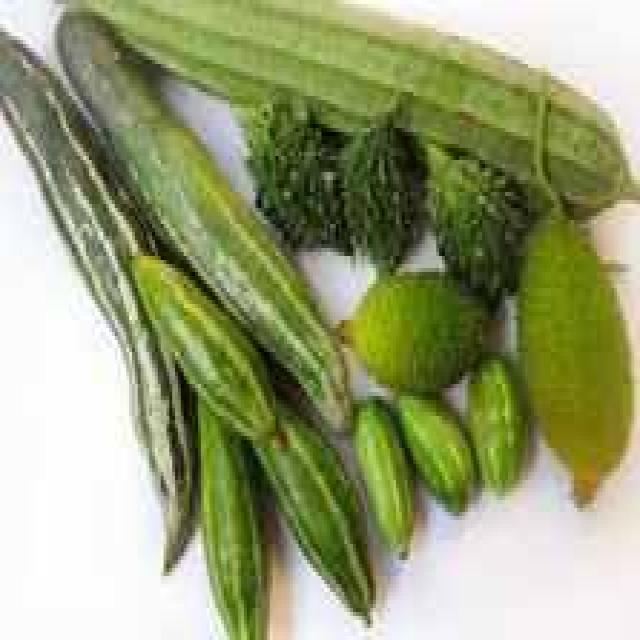food_waste: (0, 0, 631, 636)
